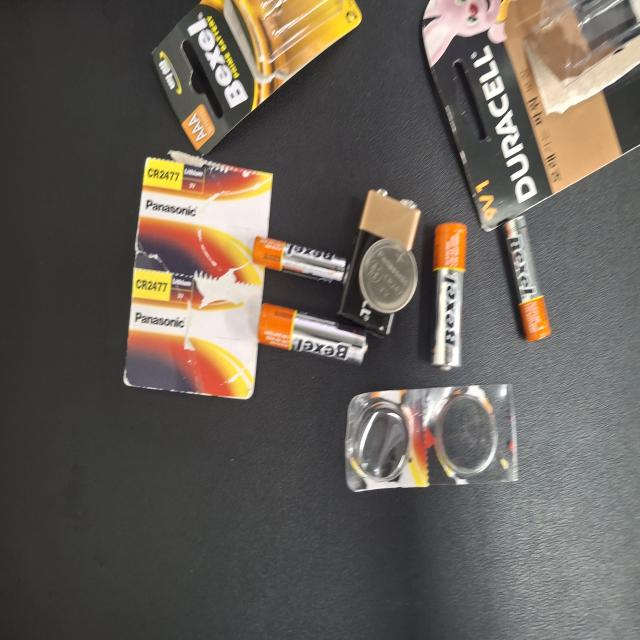9V: (142, 292, 253, 403)
AA: (228, 364, 274, 508), (167, 231, 276, 278)
AAA: (162, 118, 256, 181), (178, 392, 211, 516)
COIN: (179, 297, 235, 375)
